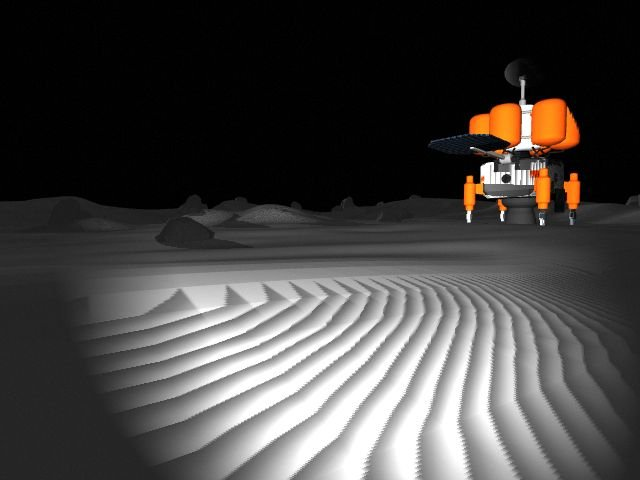homebase: (426, 59, 605, 230)
